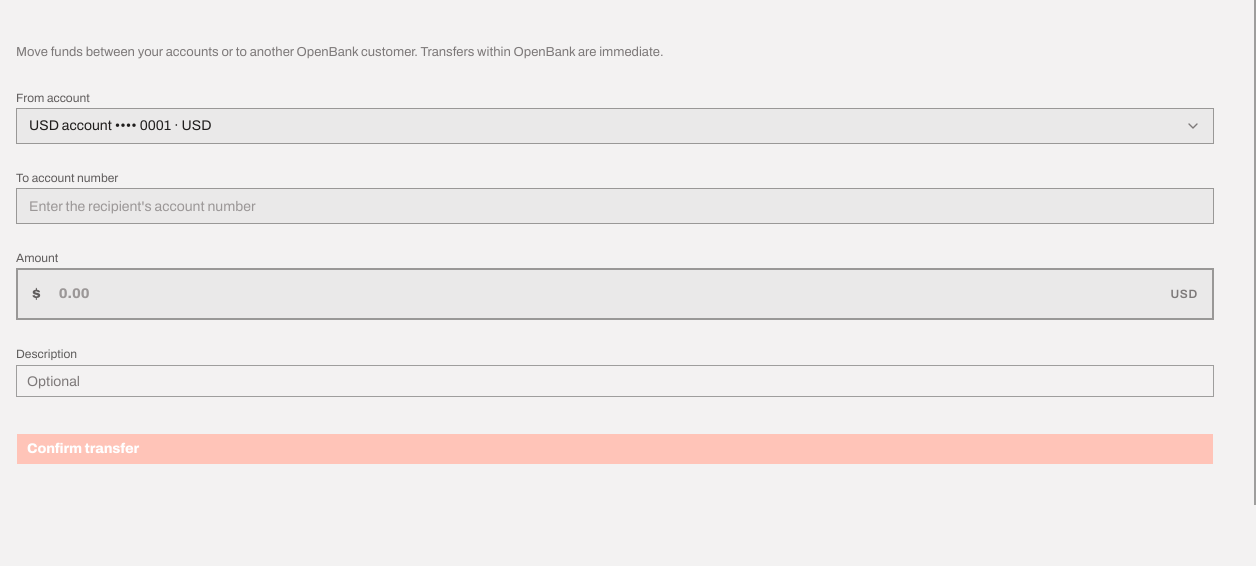
Scenario: TransferPanel integration › does not show warning when same currency
In the field with placeholder "Enter the recipient's account number": point(615, 206) [16,188,1214,224], type "7723490011"
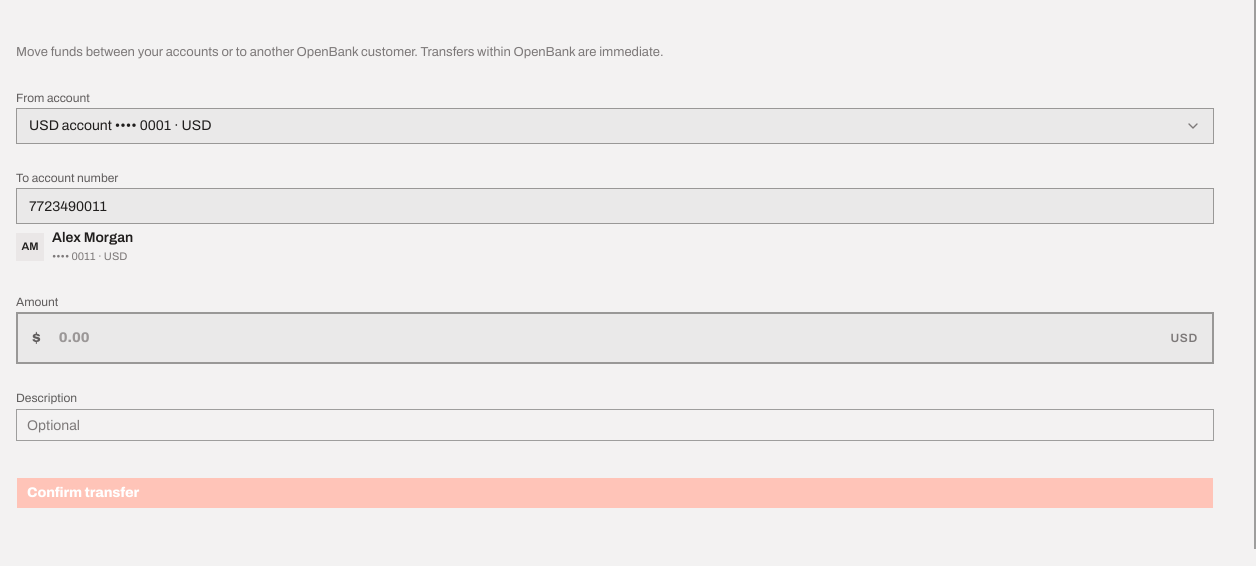
Result: the text "Alex Morgan" is shown at [52,228,133,248]
